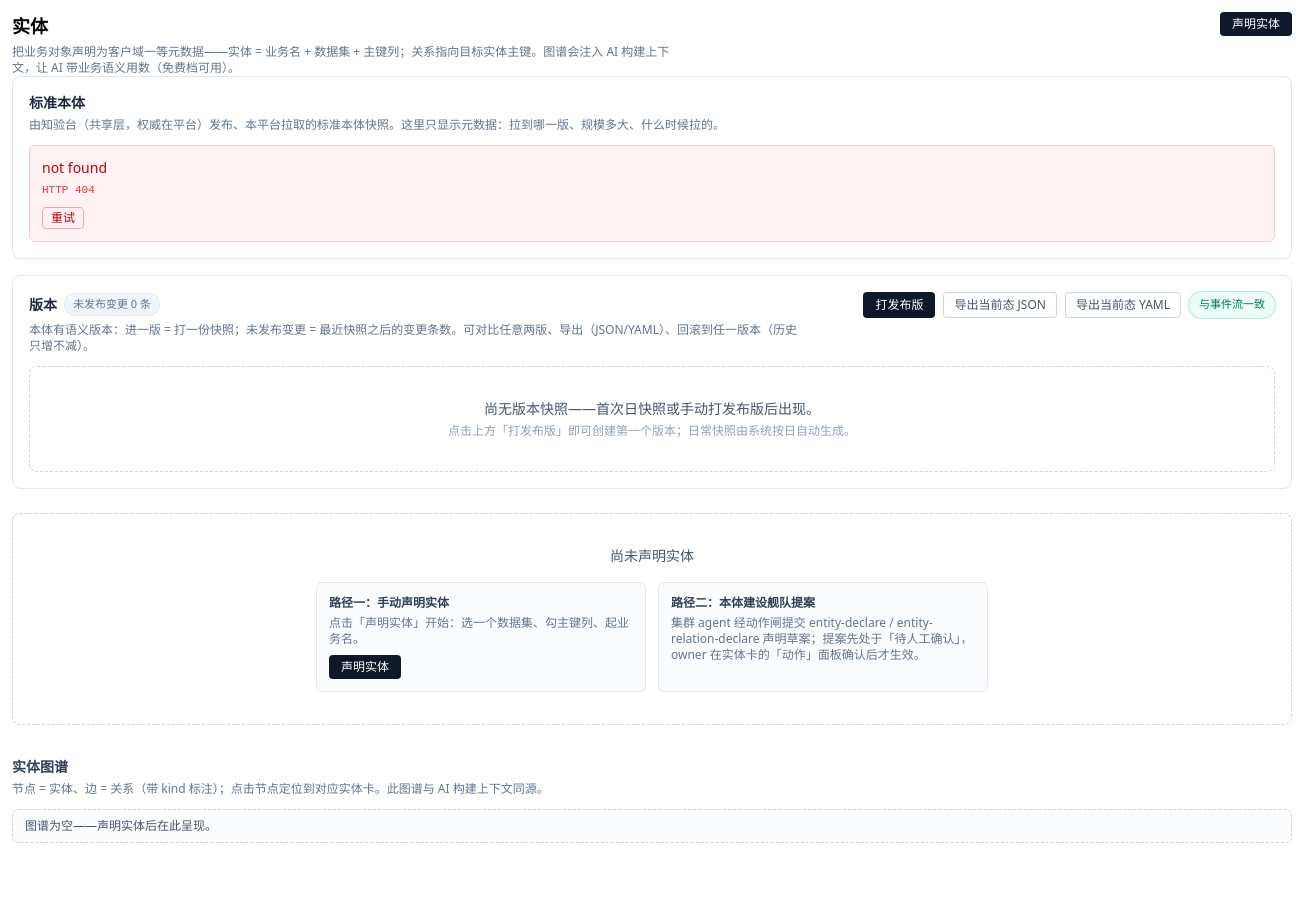
Test: EntitiesPage 创建流（数据集下拉 → 主键勾选 → 业务名 → 描述） › 409 冲突如实呈现（string detail 单行）
Expected: the element with test id "entities-empty" is shown, top-left (12, 512), bottom-right (1292, 724)
Click the button with test id "entity-create-open". click: {"x": 1256, "y": 24}
box: top-left (1220, 12), bottom-right (1292, 36)
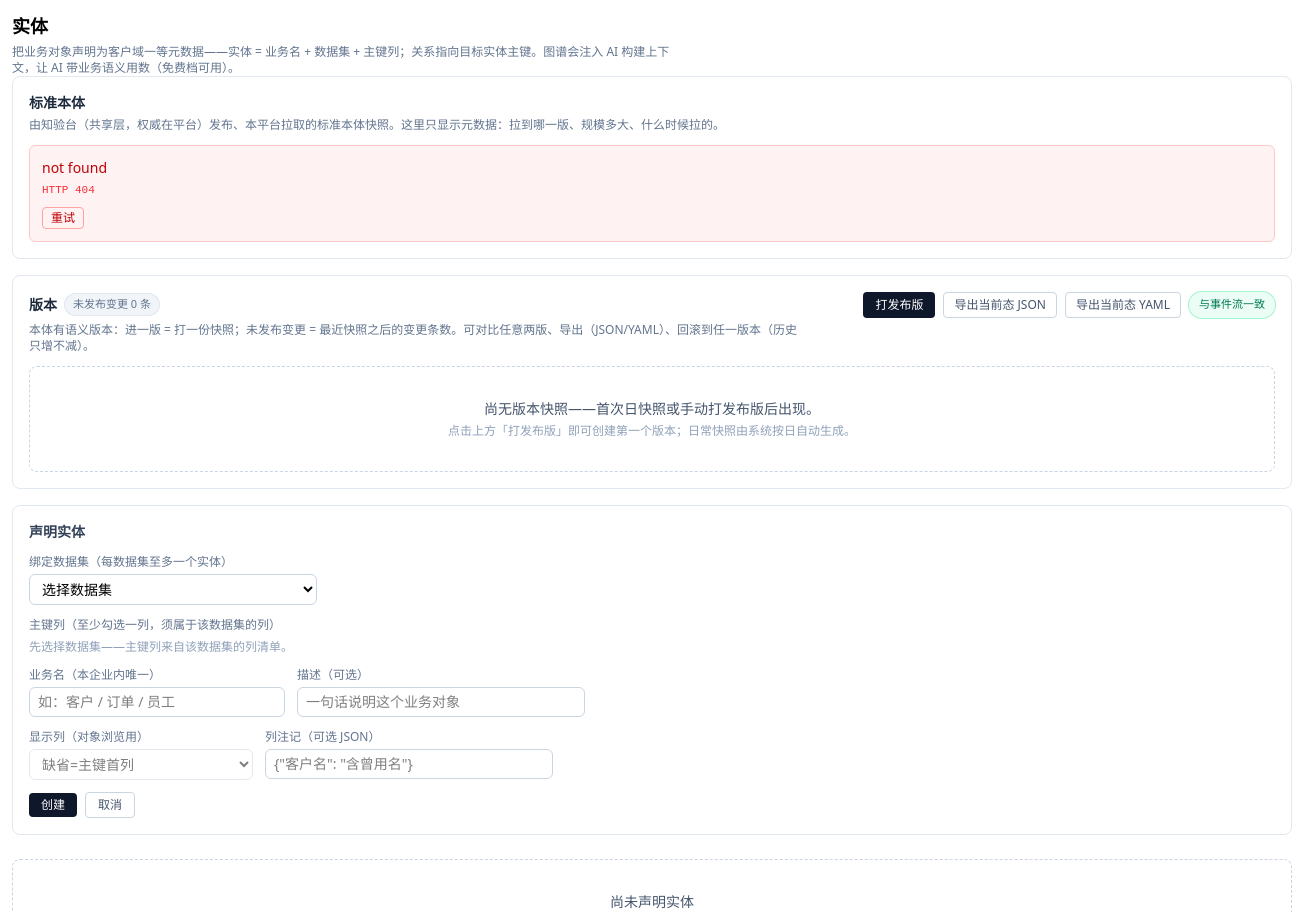
Select "客户表 · 1200 行" in the dropdown with test id "entity-create-dataset". click: {"x": 173, "y": 589}
box: top-left (29, 574), bottom-right (317, 604)
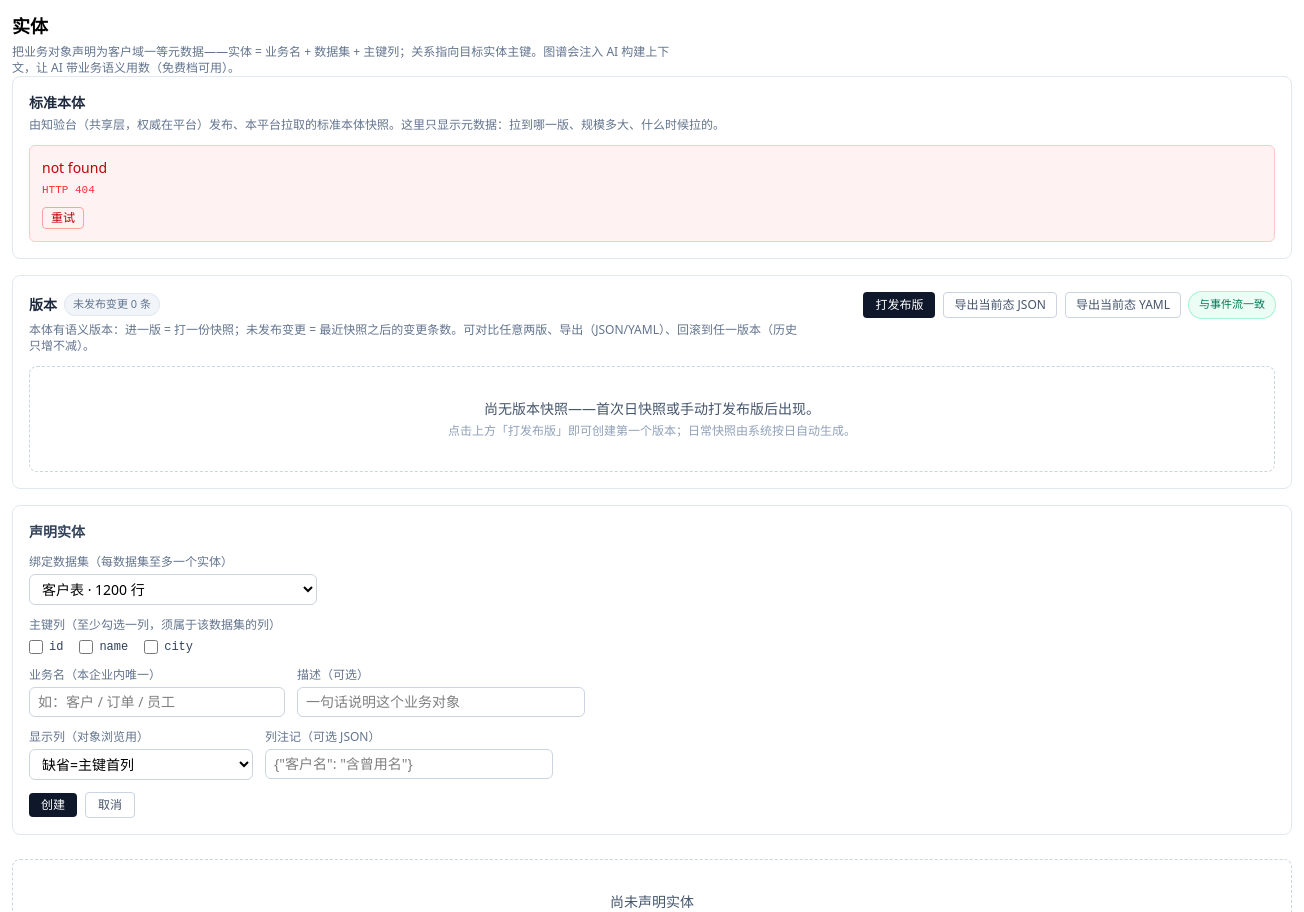
Click the checkbox with test id "entity-create-pk-check" showing "id". click: {"x": 36, "y": 646}
box: top-left (29, 640), bottom-right (43, 654)
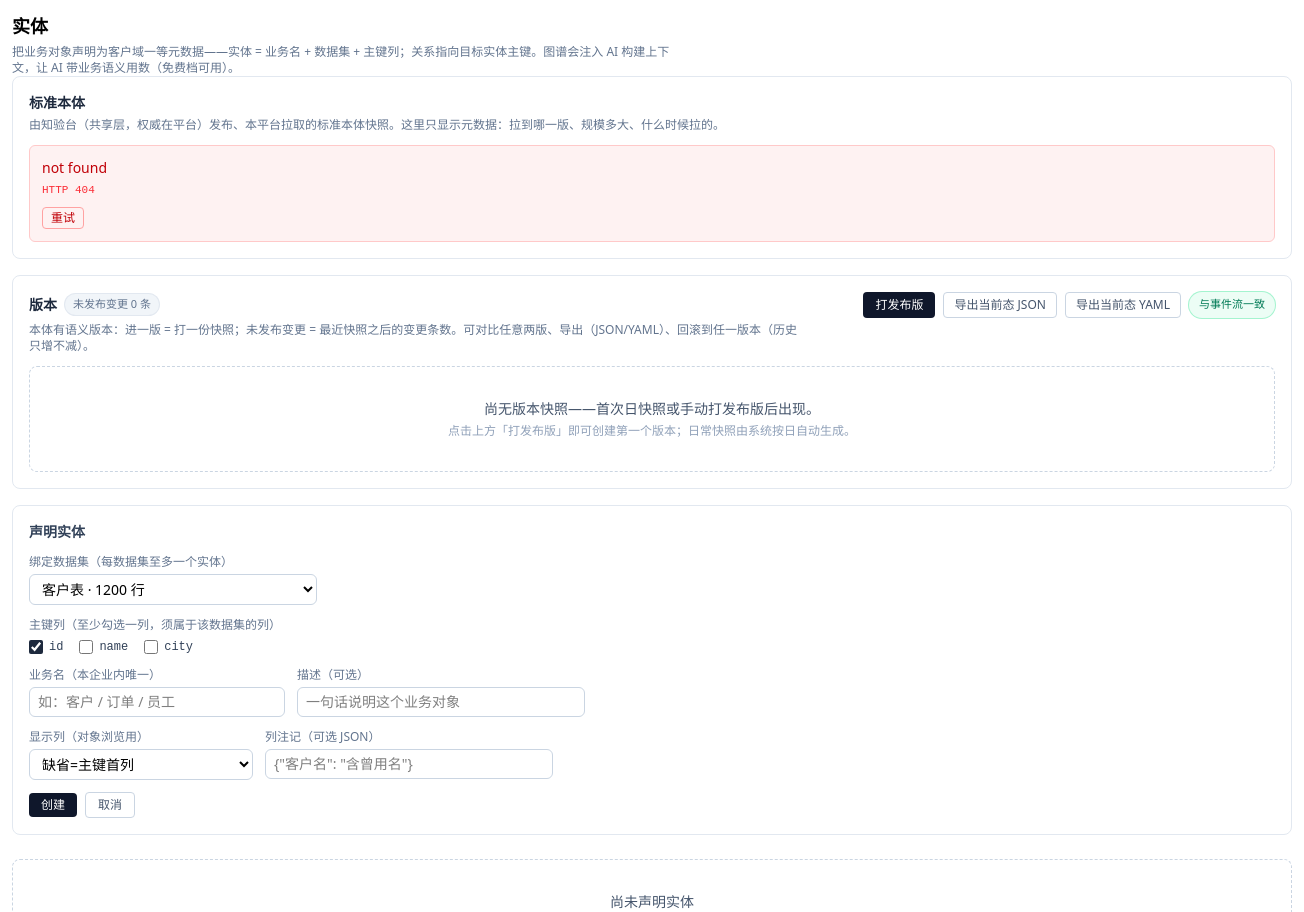
Type "客户" into the field with test id "entity-create-name". click: {"x": 157, "y": 702}
box: top-left (29, 686), bottom-right (285, 716)
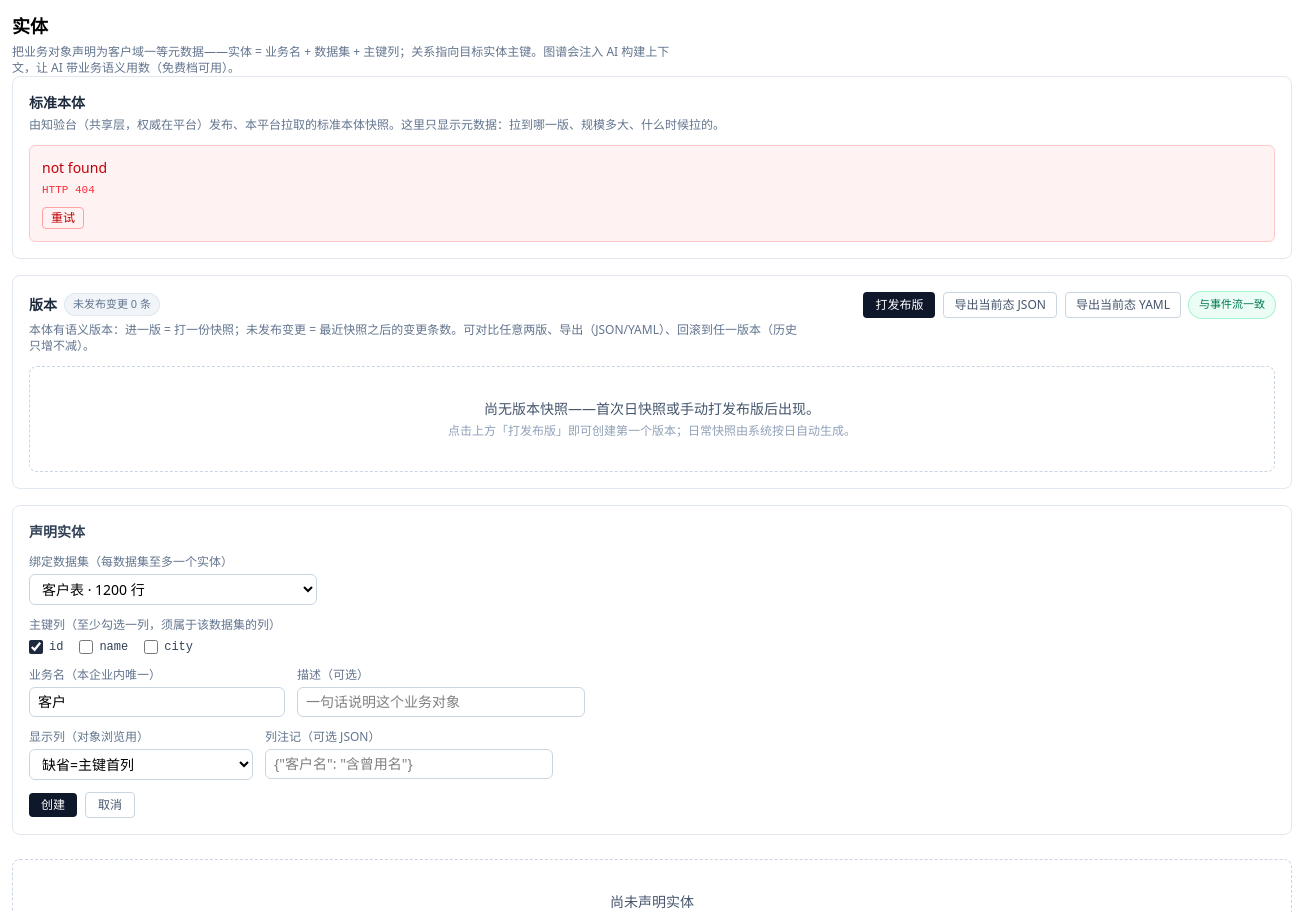
Click the button with test id "entity-create-submit". click: {"x": 53, "y": 804}
box: top-left (29, 792), bottom-right (77, 816)
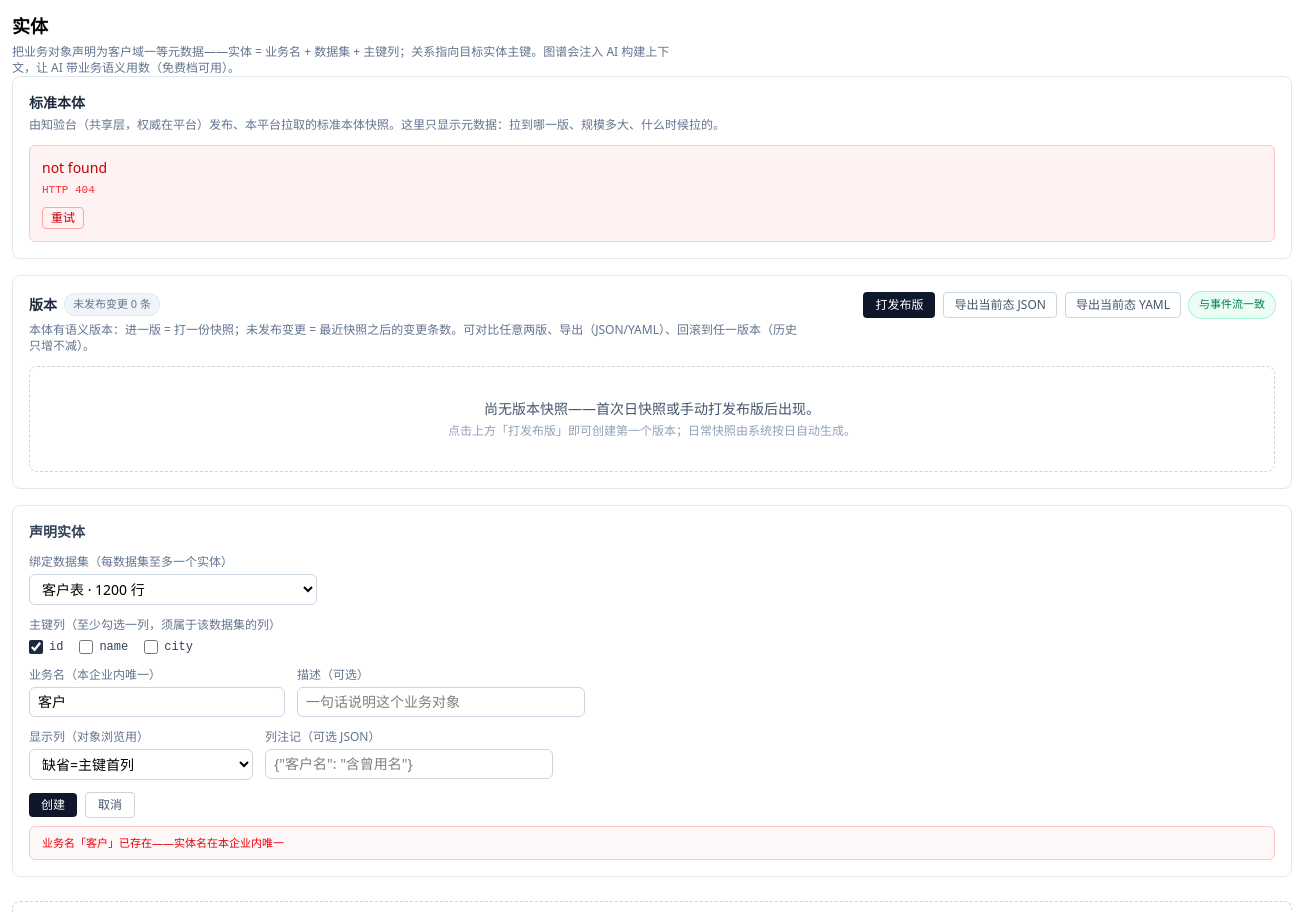
Now the list with test id "entity-create-errors" shows "业务名「客户」已存在", box top-left (42, 834), bottom-right (284, 850)
